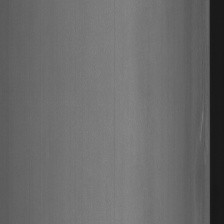silk_spot: (195, 8, 209, 220)
